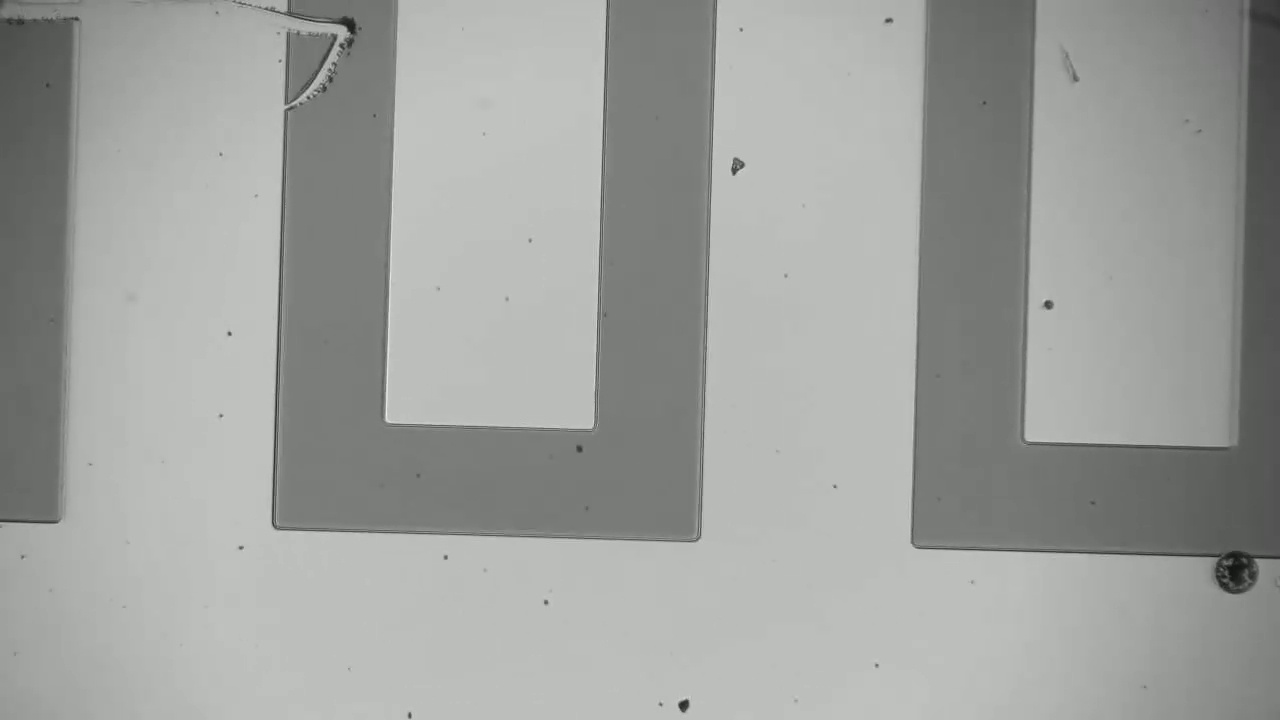Short_circuit: (257, 6, 410, 56)
